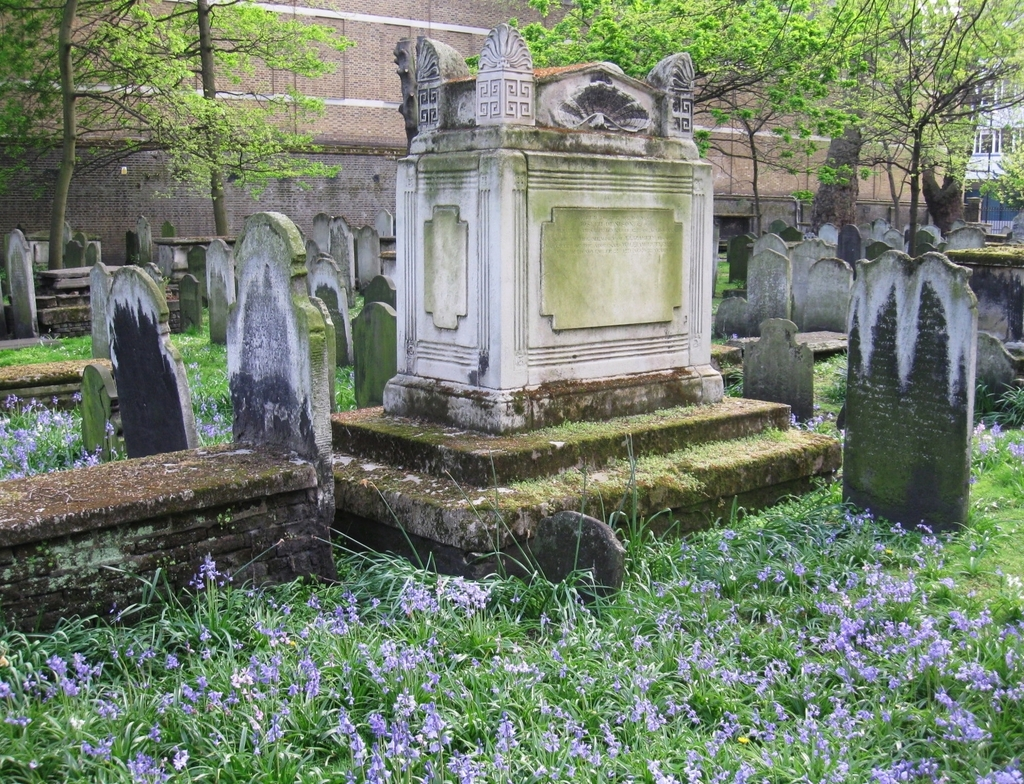Tree: (489, 0, 1023, 254), (1, 0, 355, 236)
